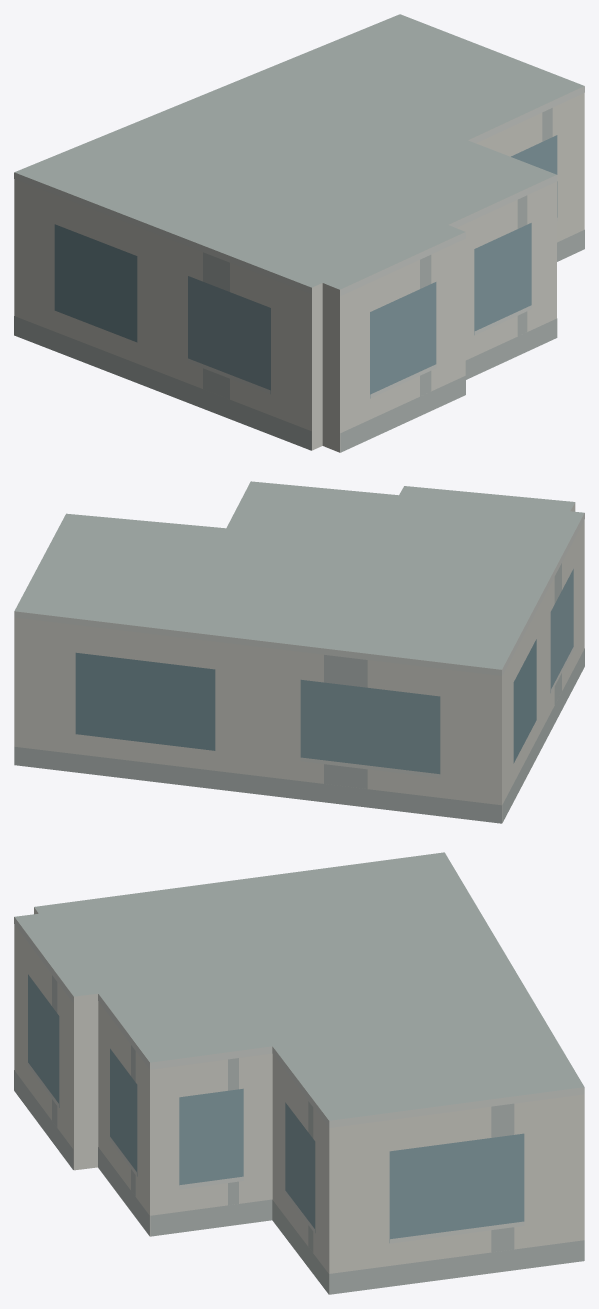
File: residential-f84717b0-229d-40bd-9d0f-4aea94de360d.glb
3 views of the same model, one above another, from view 1: azimuth 30°, elevation 25°; view 2: azimuth 150°, elevation 25°; view 3: azimuth 270°, elevation 25° (orthographic). The views are drawn at different scales.
Visible parts, largest first — view 1: residential-f84717b0-229d-40bd-9d0f-4aea94de360d.tmp; view 2: residential-f84717b0-229d-40bd-9d0f-4aea94de360d.tmp; view 3: residential-f84717b0-229d-40bd-9d0f-4aea94de360d.tmp.
Boxes of the visible parts, x1,y1,x2,y2 form: residential-f84717b0-229d-40bd-9d0f-4aea94de360d.tmp: [14, 14, 584, 452]; residential-f84717b0-229d-40bd-9d0f-4aea94de360d.tmp: [14, 481, 584, 823]; residential-f84717b0-229d-40bd-9d0f-4aea94de360d.tmp: [14, 852, 584, 1294].
Size of the model in its own units: 10.12 by 3.05 by 9.08.
